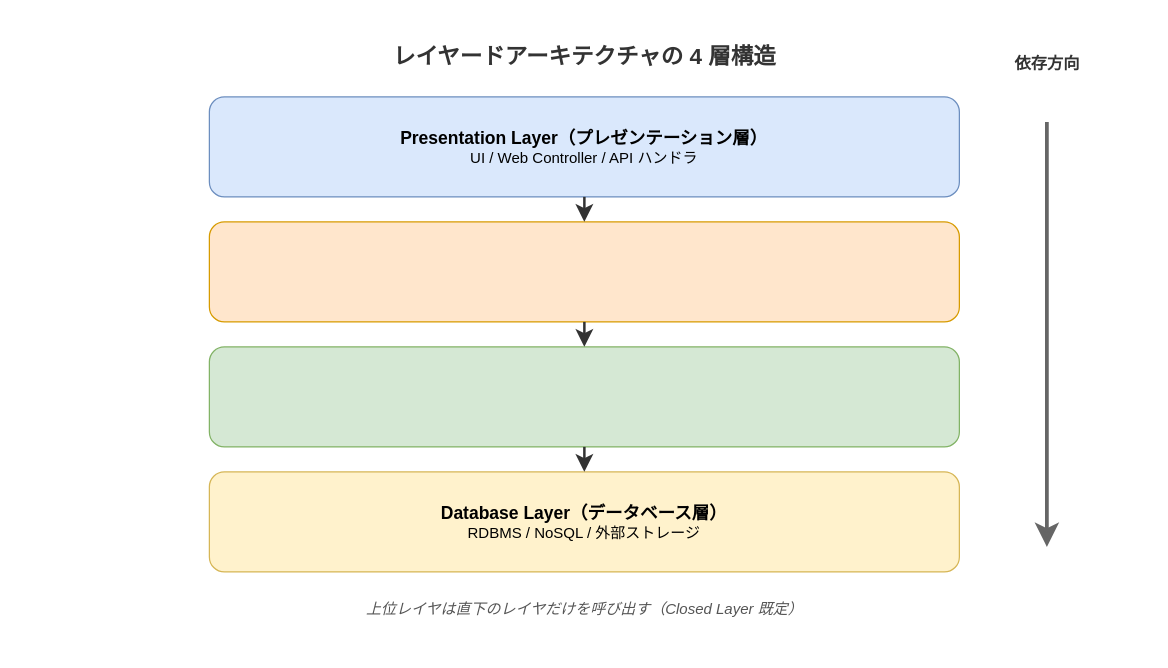
Some shapes in this 1168 by 668 pixel diagram are drawn without their labels. Here are the shapes that lost their labels. From the top down, the centre of each, then its label:
At pixel 583 271: "Business Layer（ビジネス層） Service / Domain Logic / トランザクション境界".
At pixel 583 396: "Persistence Layer（永続化層） Repository / DAO / ORM マッピング".
